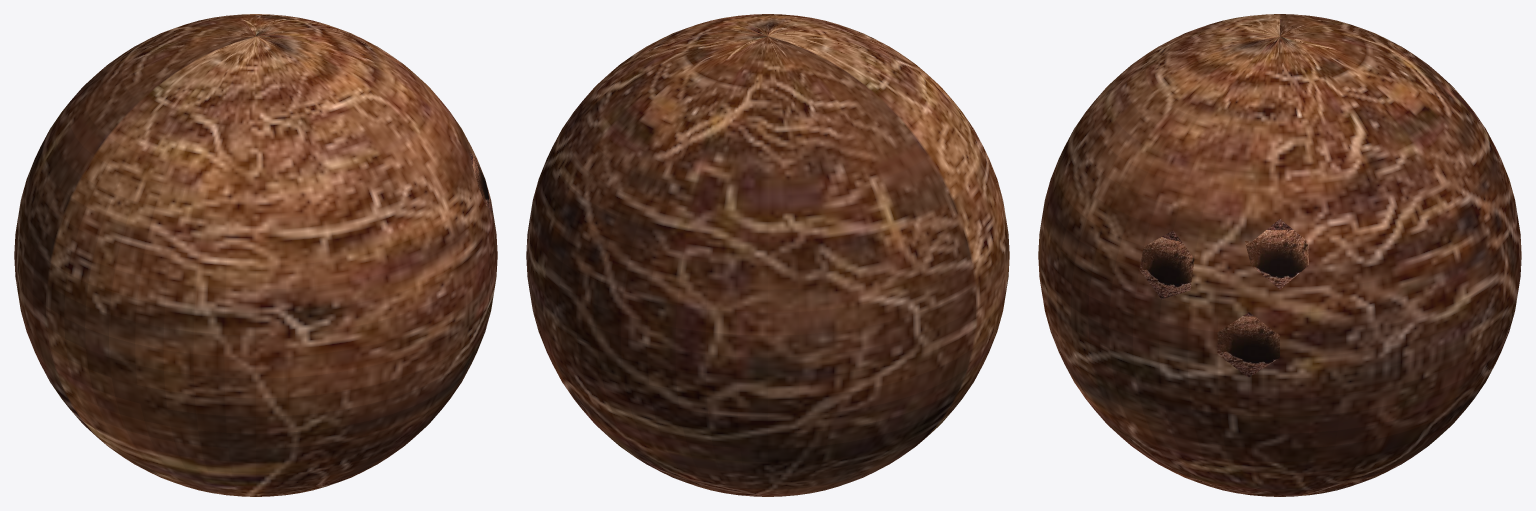
The model's file is coconut.glb.
3 views of the same model, side by side, from view 1: azimuth 30°, elevation 25°; view 2: azimuth 150°, elevation 25°; view 3: azimuth 270°, elevation 25° (orthographic).
Visible parts, largest first — view 1: Sphere; view 2: Sphere; view 3: Sphere, Sphere.001.
Boxes of the visible parts, <box> form: Sphere: <box>14,14,497,496</box>; Sphere: <box>526,14,1009,496</box>; Sphere: <box>1038,14,1521,496</box>; Sphere.001: <box>1139,219,1308,377</box>.
Size of the model in its own units: 2 by 2 by 2.
2 materials, 2 textured.
